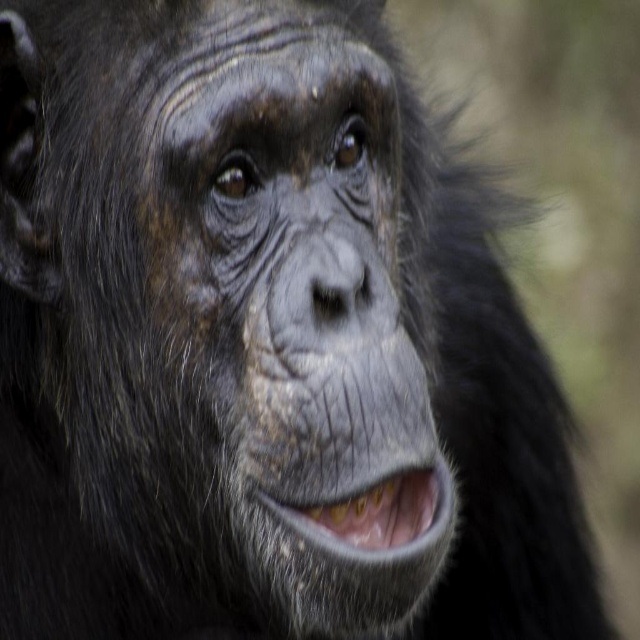Monkey: (0, 0, 628, 639)
